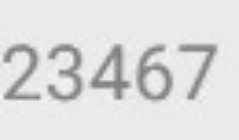TextView: (1, 1, 238, 139)
